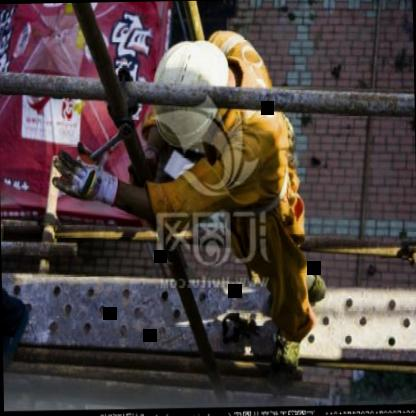helmet: (148, 32, 236, 146)
